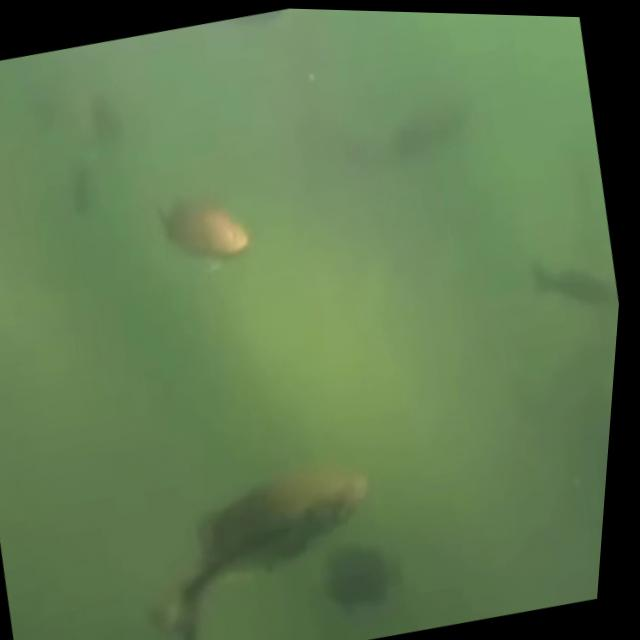fish: (116, 422, 417, 640), (136, 163, 272, 296), (346, 61, 487, 189), (515, 216, 628, 339), (146, 3, 296, 72), (0, 136, 34, 281)
